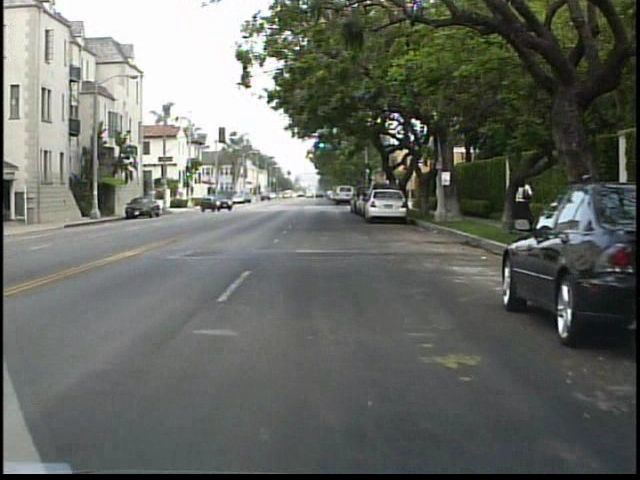person: (508, 176, 533, 220)
